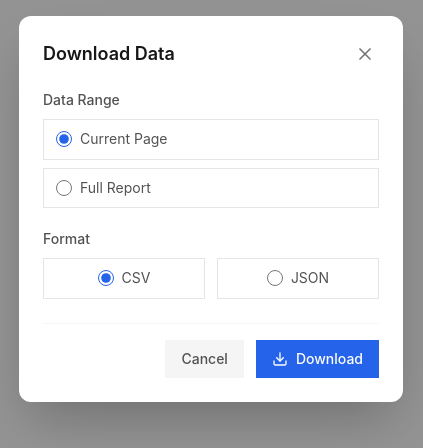
Test: V1DownloadModal › allows changing download type
Click the text "Full Report" at (115, 188), box [80,176,151,199]
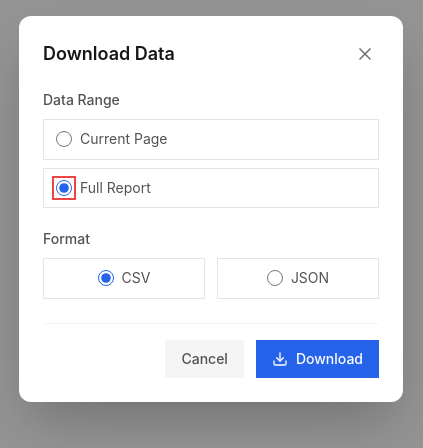
Check: the radio button showing "full" is checked, box [56,180,72,196]
